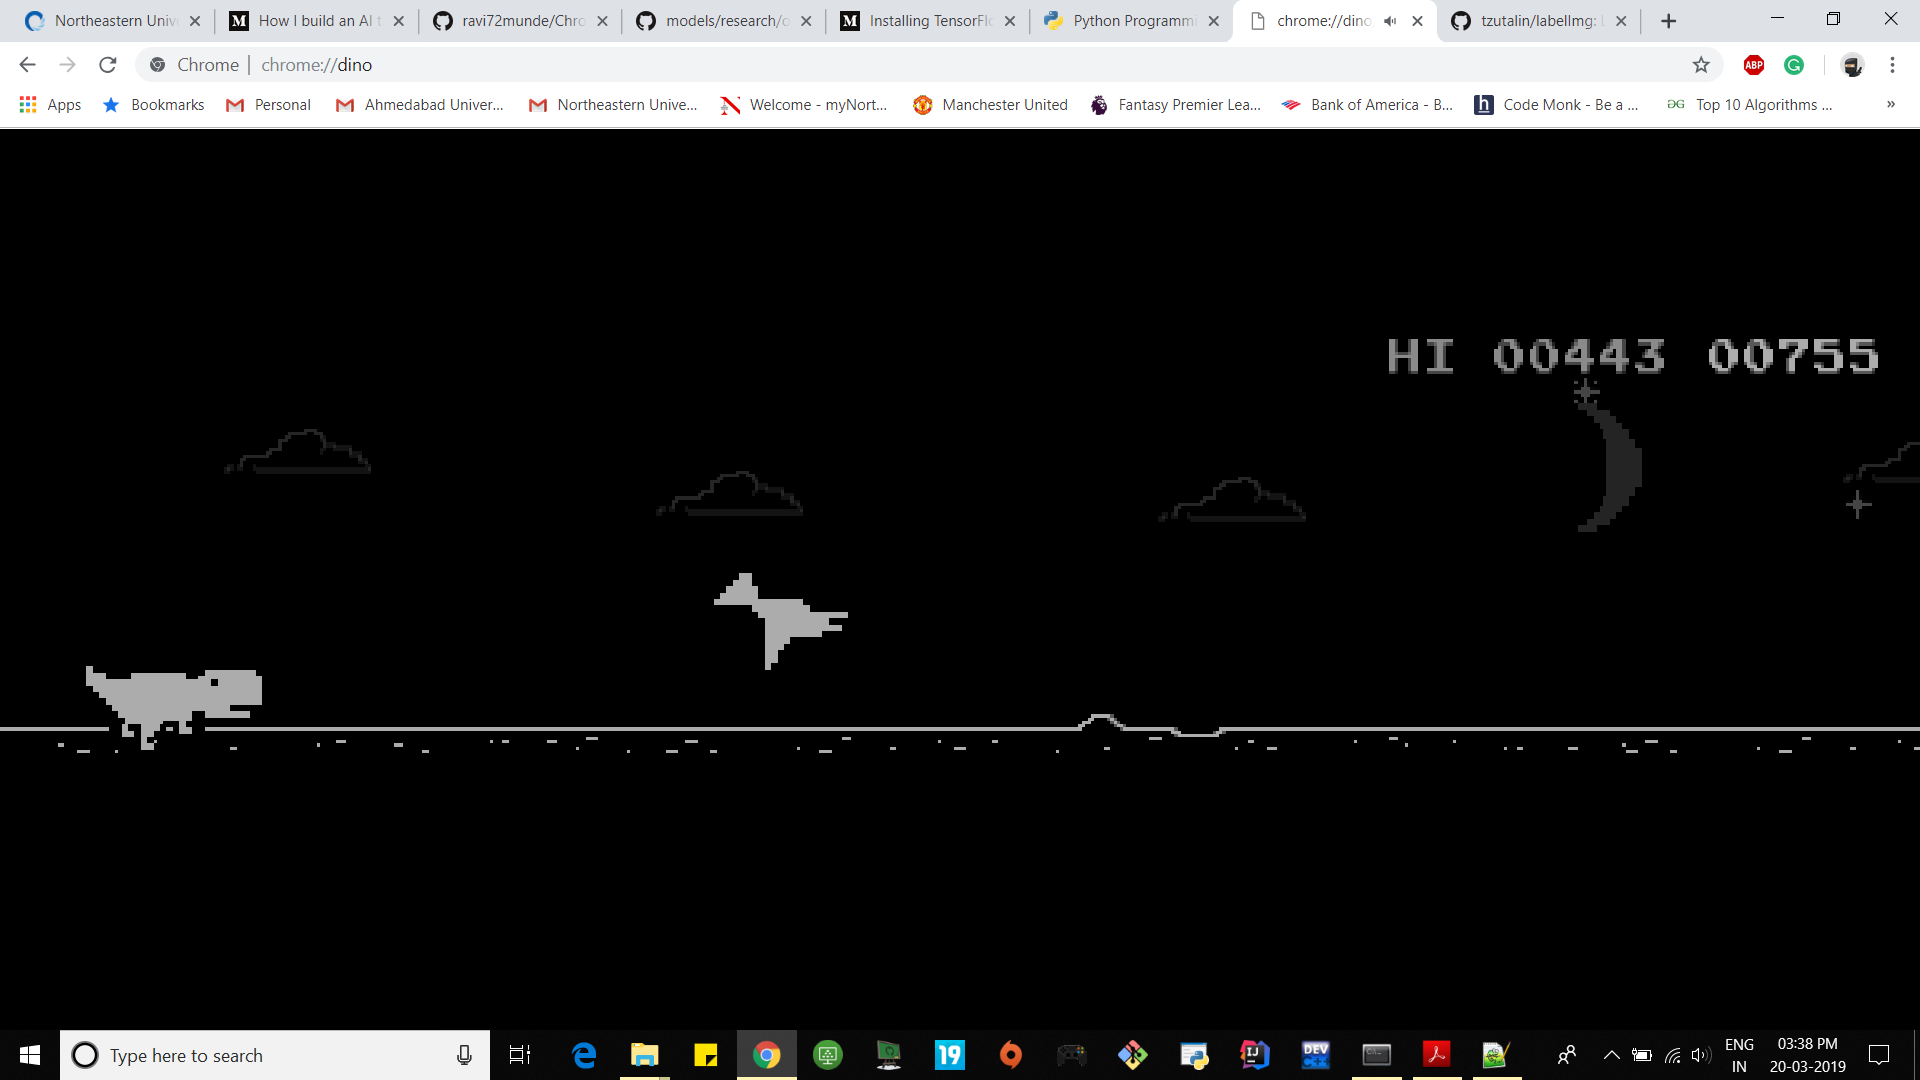bird: (709, 572, 851, 673)
dino: (80, 661, 266, 754)
